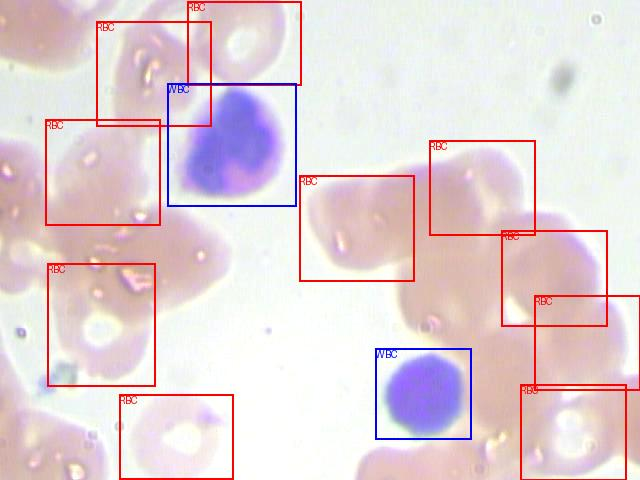RBC: (47, 263, 155, 386), (299, 175, 414, 281), (45, 119, 160, 225), (96, 21, 211, 126), (501, 230, 607, 326), (520, 384, 626, 480), (534, 295, 640, 390), (429, 140, 535, 235), (119, 394, 233, 479), (187, 1, 301, 85)
WBC: (167, 83, 296, 206), (375, 348, 471, 439)
